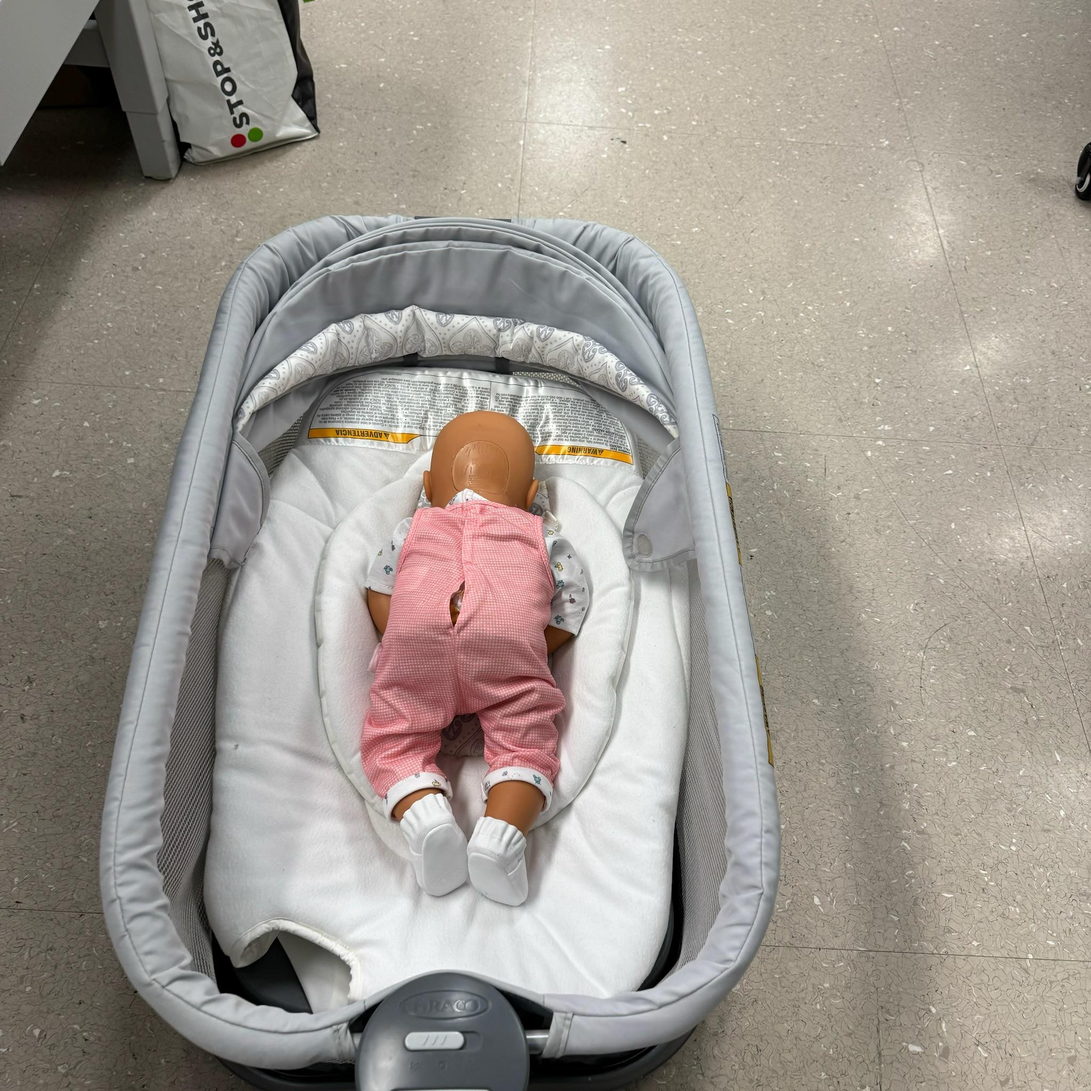baby: (344, 394, 605, 920)
